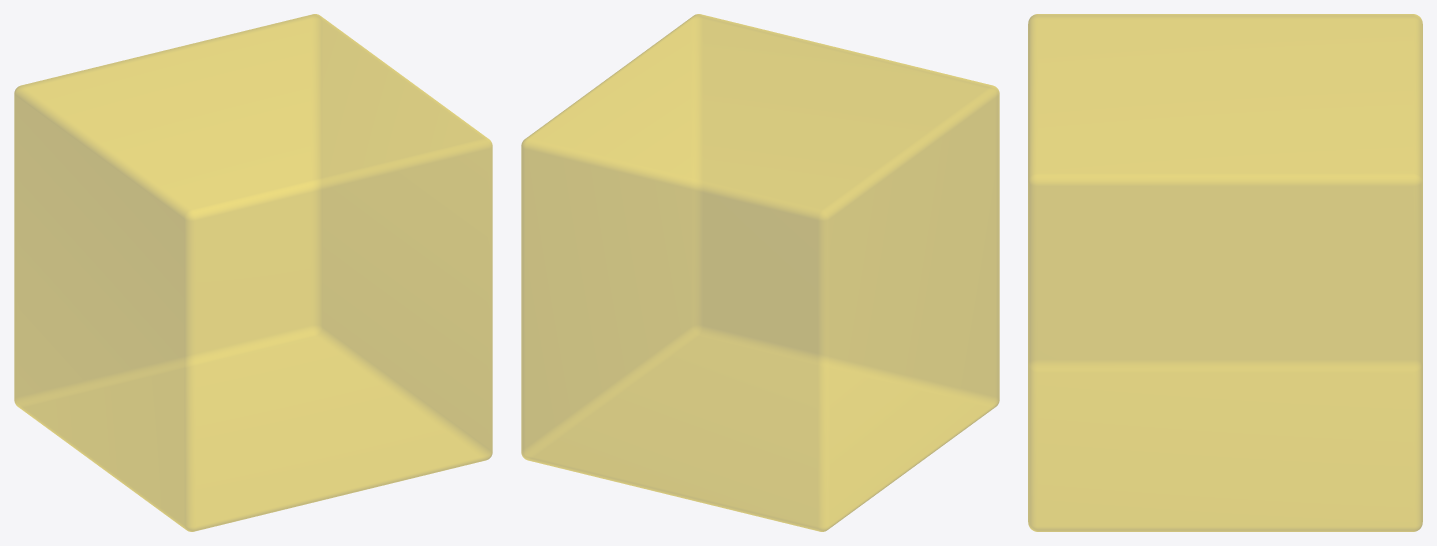
Rendered from actionspace.glb.
3 views of the same model, side by side, from view 1: azimuth 30°, elevation 25°; view 2: azimuth 150°, elevation 25°; view 3: azimuth 270°, elevation 25° (orthographic). The views are drawn at different scales.
Parts seen in each view (by area): view 1: Cube; view 2: Cube; view 3: Cube.
Boxes of the visible parts, box(x1,y1,x2,y2) form: Cube: box(14, 14, 492, 531); Cube: box(521, 14, 999, 531); Cube: box(1028, 14, 1422, 531).
Size of the model in its own units: 2 by 2 by 2.
